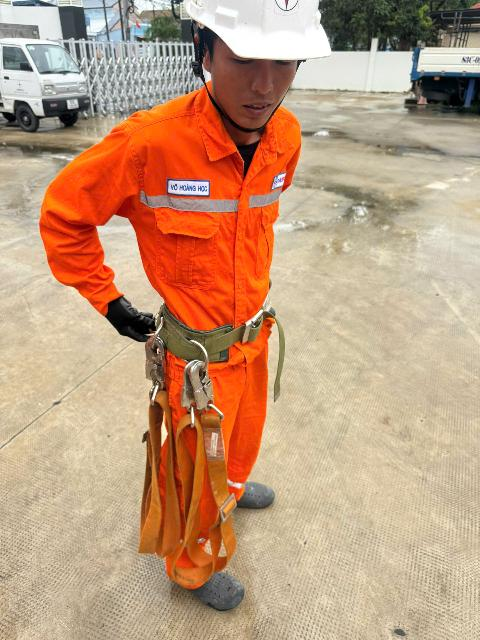gloves: (100, 296, 167, 356)
harness: (153, 297, 278, 374)
helmet: (161, 0, 356, 86)
shoes: (186, 553, 243, 617), (226, 477, 277, 514)
